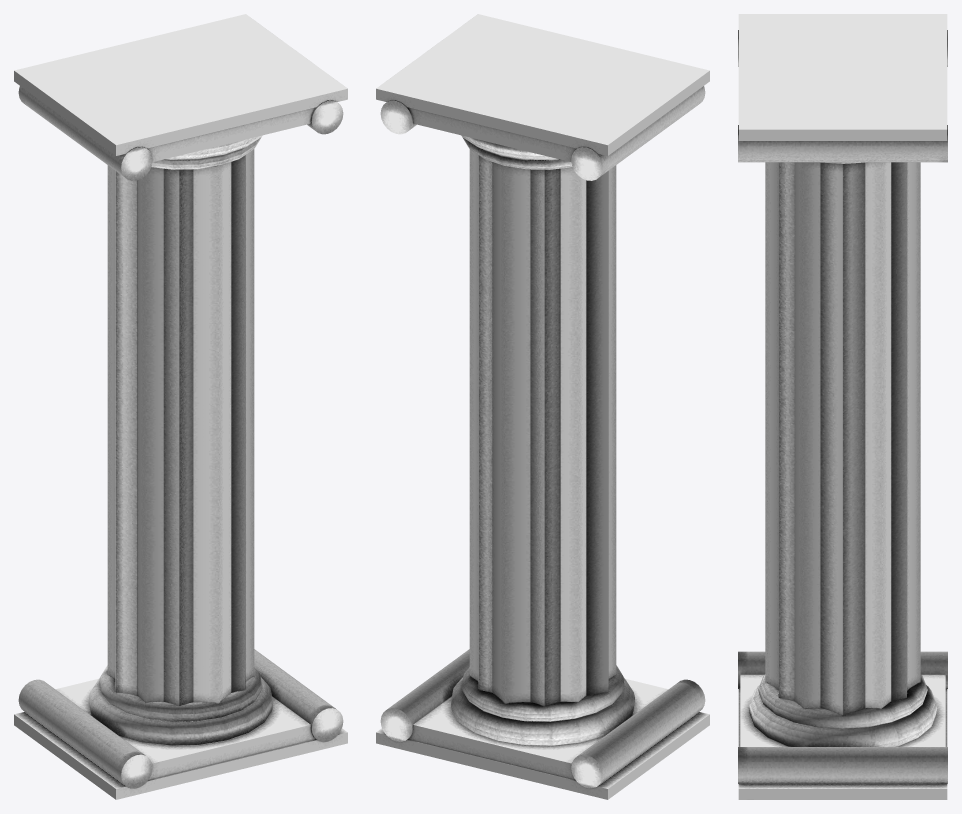
The model's file is pillar.obj.
3 renders of one model, left to right at view 1: azimuth 30°, elevation 25°; view 2: azimuth 150°, elevation 25°; view 3: azimuth 270°, elevation 25°, orthographic. The views are drawn at different scales.
Parts seen in each view (by area): view 1: pillar; view 2: pillar; view 3: pillar.
Part boxes in pixels (x1,y1,x2,y2): pillar: [14, 14, 347, 799]; pillar: [376, 14, 709, 799]; pillar: [738, 14, 947, 799].
Size of the model in its own units: 268 by 722 by 205.
Materials: 1 (1 with a texture image).
